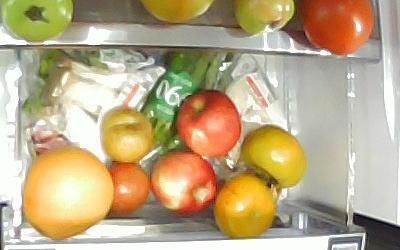apple: (174, 90, 241, 159), (150, 149, 219, 214)
grapefruit: (22, 146, 113, 242)
persimmon: (213, 171, 277, 240), (241, 124, 308, 189)
prune: (101, 106, 154, 163), (109, 163, 151, 216)
